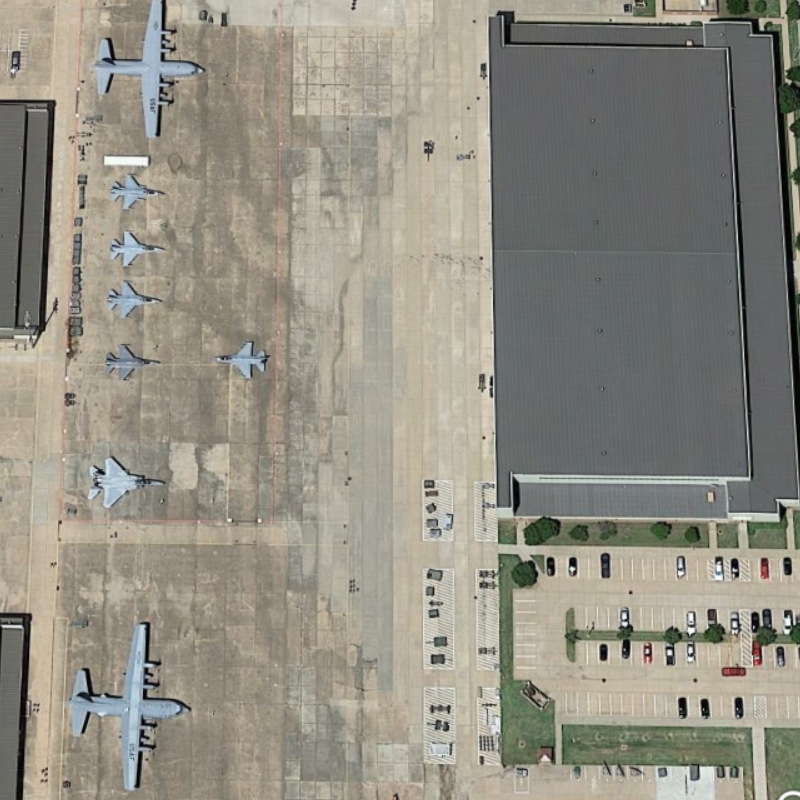A13: (87, 454, 168, 510)
A2: (64, 616, 195, 796), (90, 2, 208, 143)
A5: (107, 226, 170, 271), (102, 340, 164, 385), (106, 171, 167, 213), (211, 337, 269, 381), (104, 277, 166, 318)
